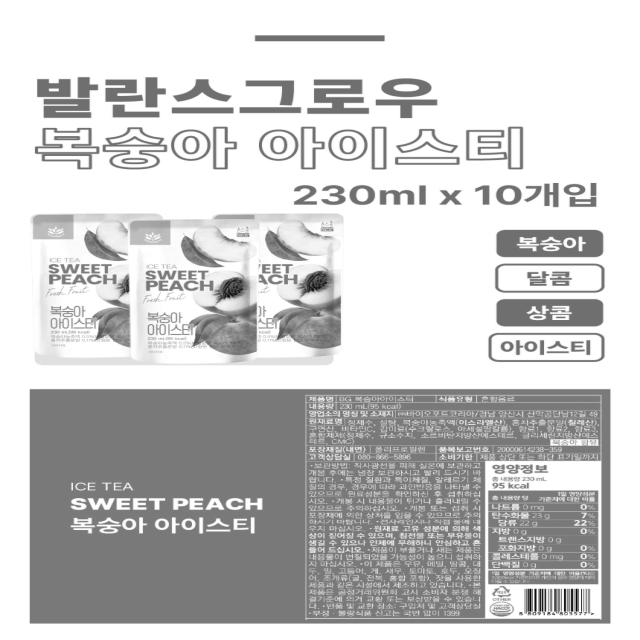Nutrition Label: (484, 459, 601, 587)
